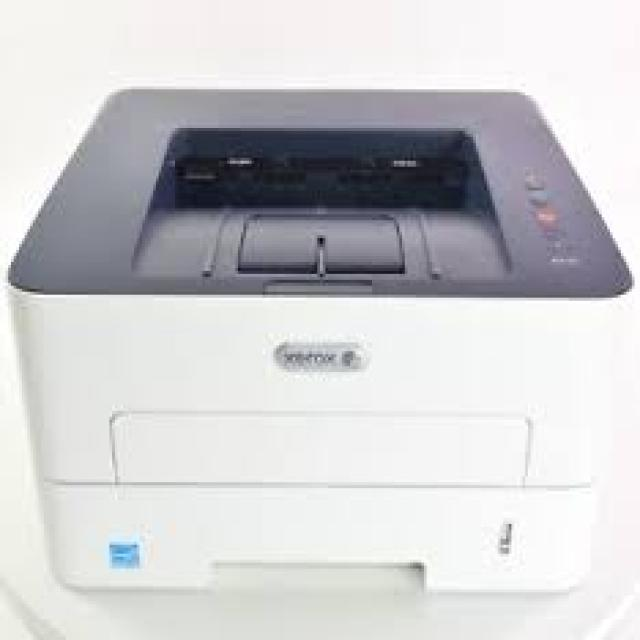printer: (8, 58, 634, 612)
